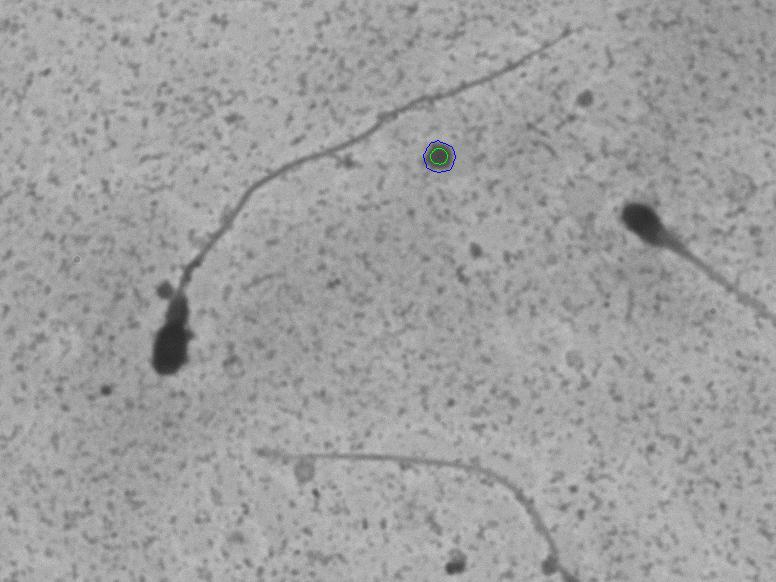Abnormal: (103, 62, 498, 395), (616, 155, 767, 358)
